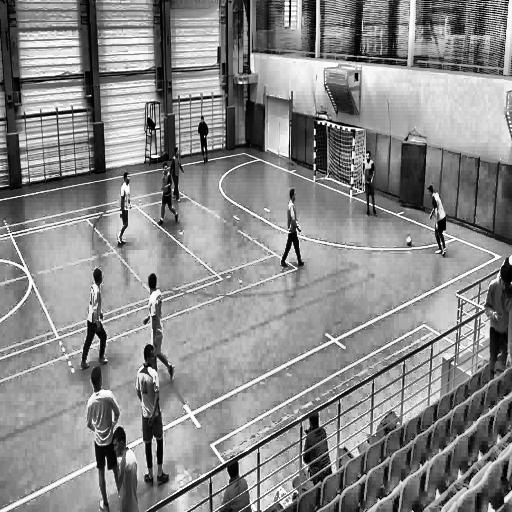ball: (406, 232, 413, 248)
player: (86, 366, 128, 512), (135, 345, 170, 493), (143, 272, 176, 387), (80, 268, 110, 371), (295, 404, 333, 476), (111, 423, 139, 512), (215, 454, 253, 512), (281, 187, 306, 270), (156, 161, 180, 229), (428, 183, 448, 262), (116, 172, 132, 258), (361, 149, 380, 220), (169, 146, 186, 204), (197, 113, 212, 165)
